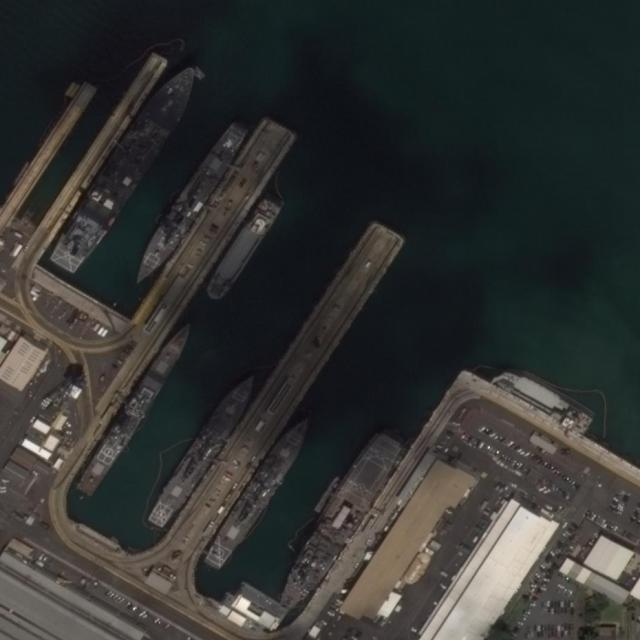Cruiser: (75, 318, 200, 495)
Destroyer: (127, 119, 249, 287), (145, 366, 264, 530), (202, 409, 318, 570)
Dock: (167, 219, 405, 563), (130, 111, 299, 339), (23, 50, 169, 262), (1, 81, 97, 218)
Landing: (266, 427, 407, 624)
Other Warship: (45, 53, 211, 283), (201, 194, 285, 306)
